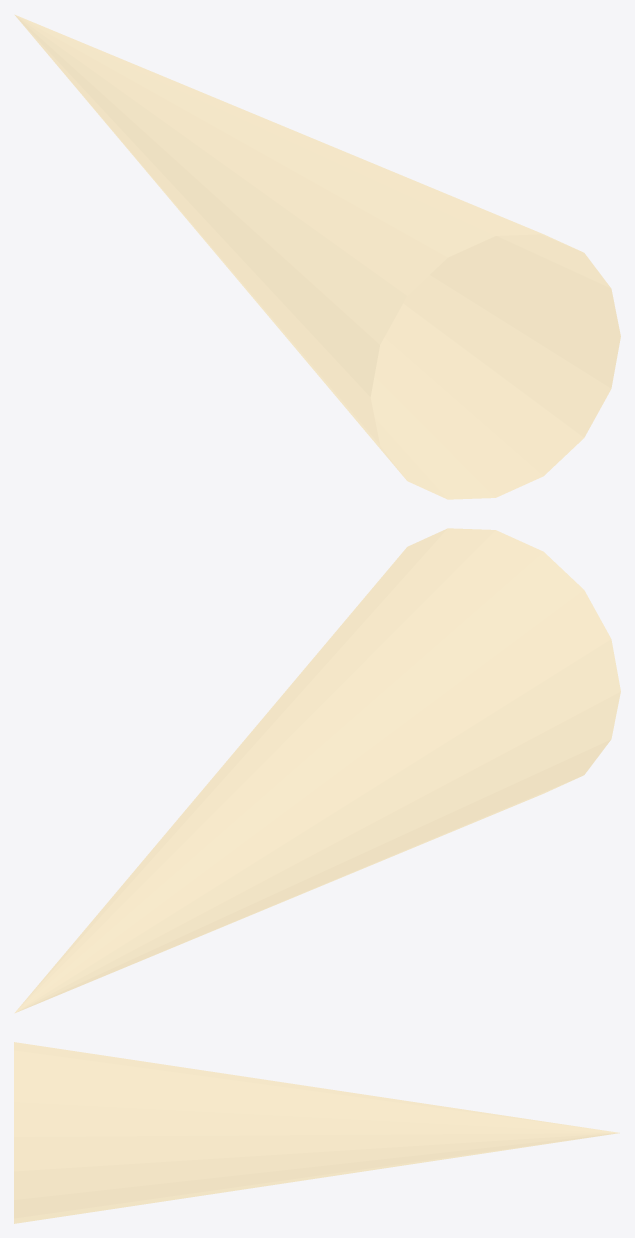
Rendered from beam_cone.glb.
3 renders of one model, top to bottom at view 1: azimuth 30°, elevation 25°; view 2: azimuth 150°, elevation 25°; view 3: azimuth 270°, elevation 25°, orthographic. The views are drawn at different scales.
Parts seen in each view (by area): view 1: beam_cone; view 2: beam_cone; view 3: beam_cone.
Boxes of the visible parts, x1,y1,x2,y2 form: beam_cone: [14, 14, 620, 499]; beam_cone: [14, 528, 620, 1013]; beam_cone: [14, 1042, 619, 1223].
Size of the model in its own units: 0.3 by 0.3 by 1.
